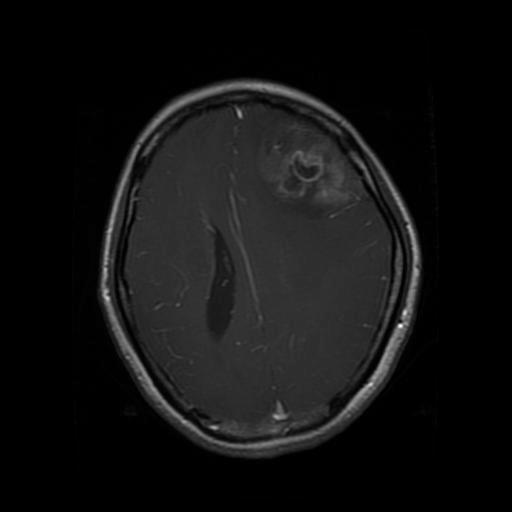Tumour-Glioma: (265, 126, 352, 216)
